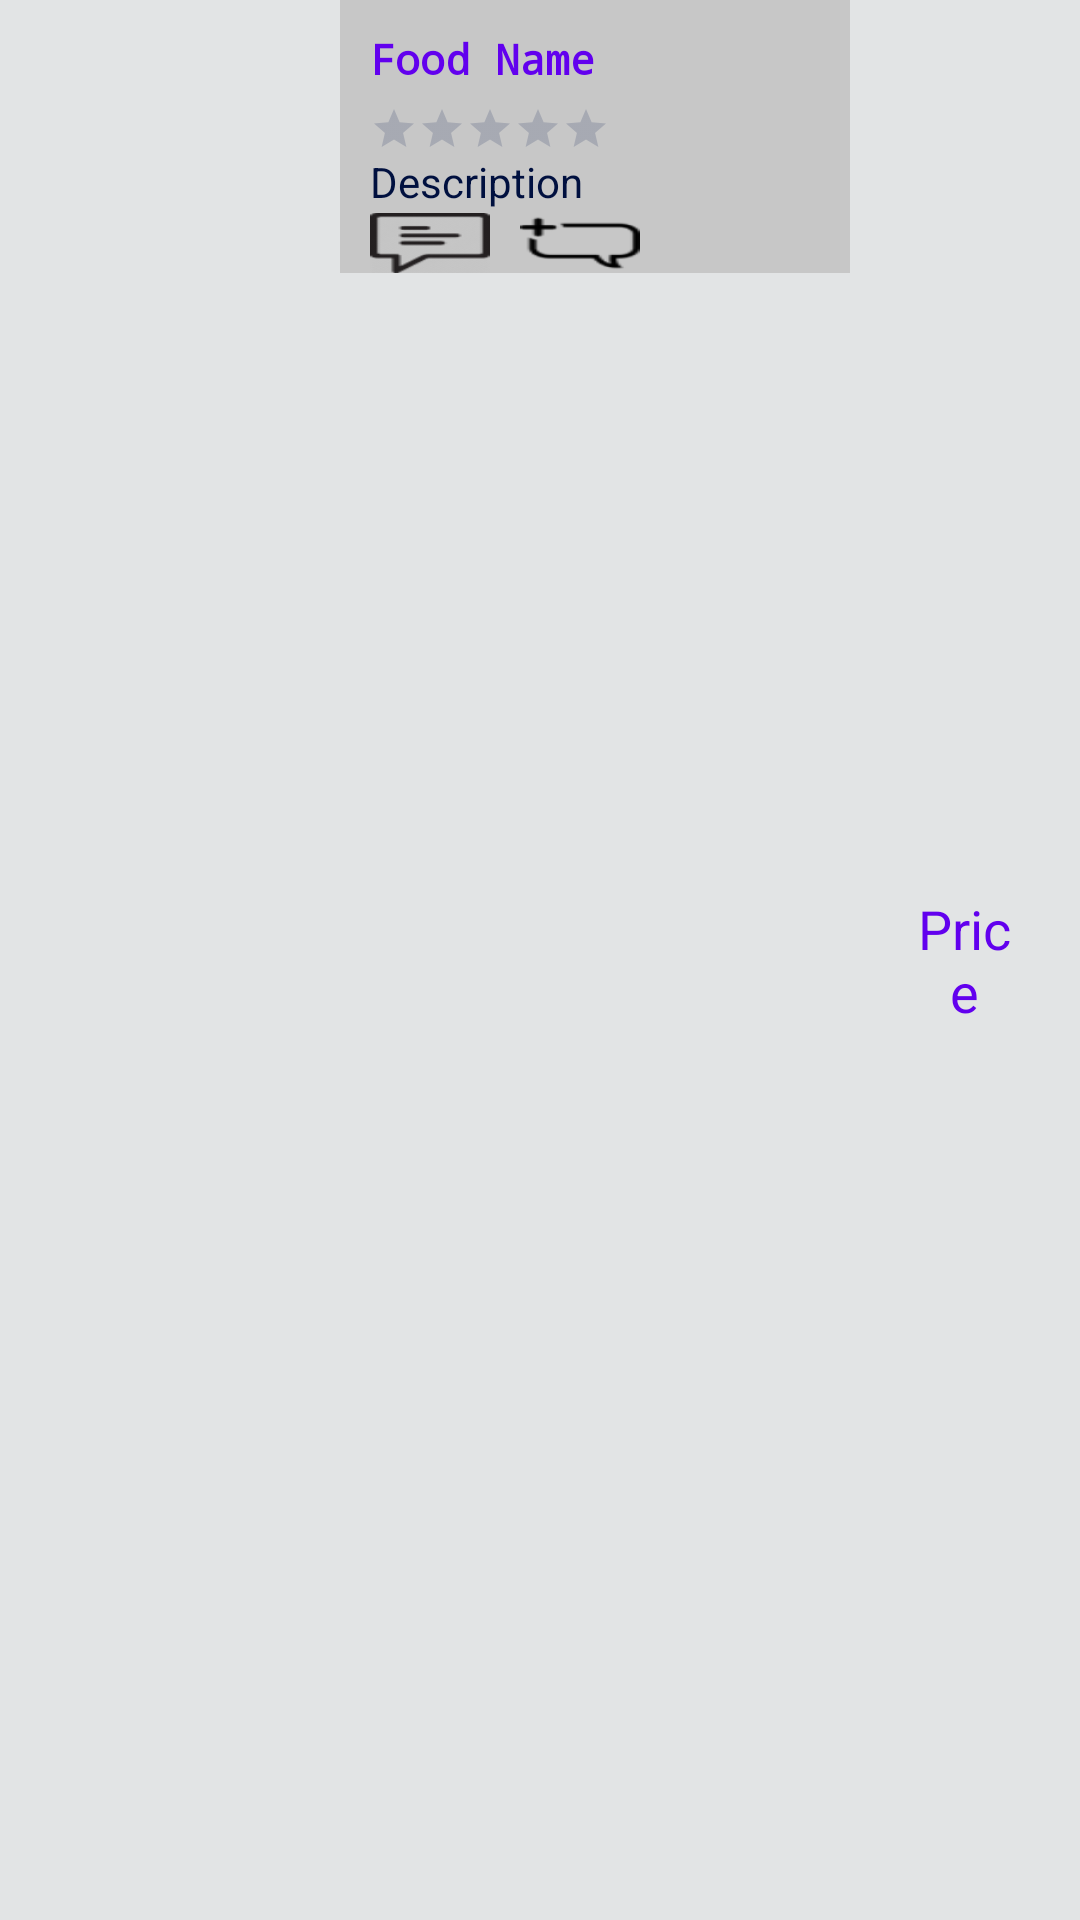

Point at icon controls on the screen. Image size 1080w x 1920h, points as point (x, y).
add comment: point (580, 243)
view comment: point (430, 243)
